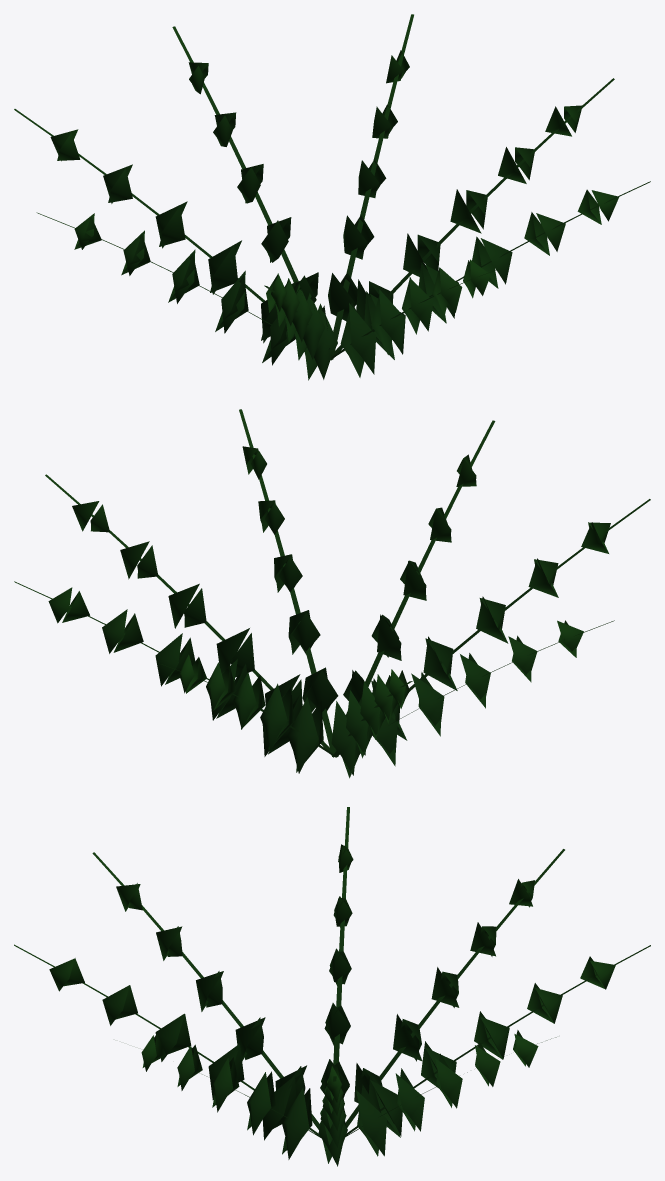
File: Fern_Christmas.glb
3 views of the same model, one above another, from view 1: azimuth 30°, elevation 25°; view 2: azimuth 150°, elevation 25°; view 3: azimuth 270°, elevation 25° (orthographic). The views are drawn at different scales.
Visible parts, largest first — view 1: Fern_Christmas; view 2: Fern_Christmas; view 3: Fern_Christmas.
Part boxes in pixels (x1,y1,x2,y2): Fern_Christmas: (14, 14, 650, 380); Fern_Christmas: (14, 409, 650, 778); Fern_Christmas: (14, 807, 650, 1166).
Bounding box in the file's own units: 0.9147 × 0.322 × 0.915.
